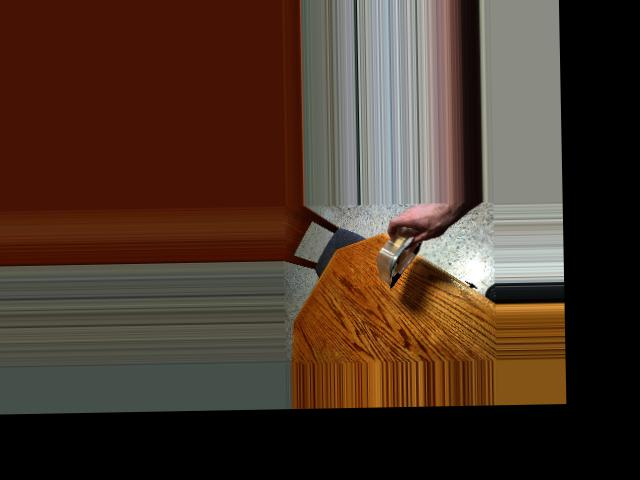cheese: (368, 218, 444, 282)
